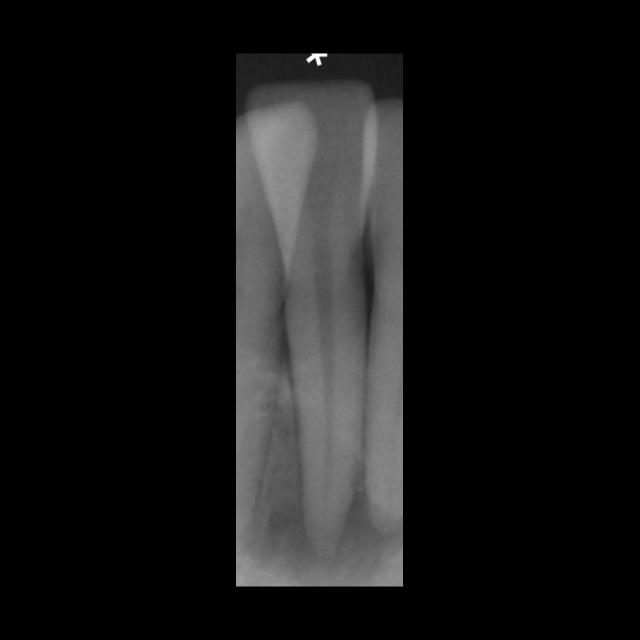tooth: (237, 83, 401, 570)
